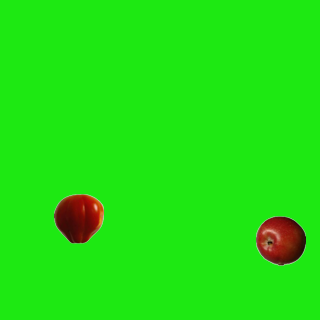Apple Braeburn: (255, 215, 305, 265)
Tomato 1: (53, 193, 103, 243)
